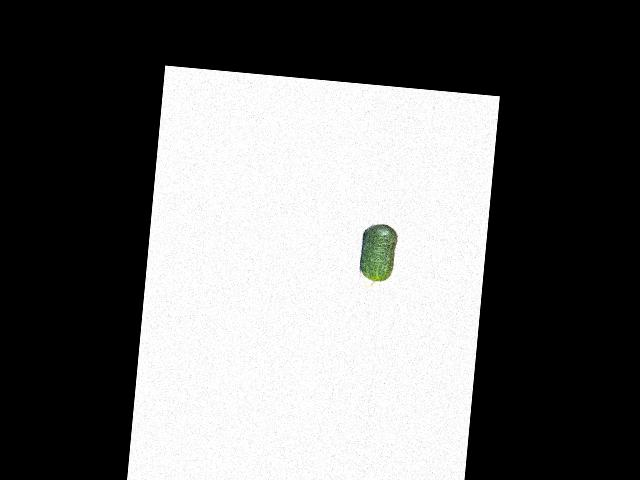cucumber: (358, 222, 398, 289)
